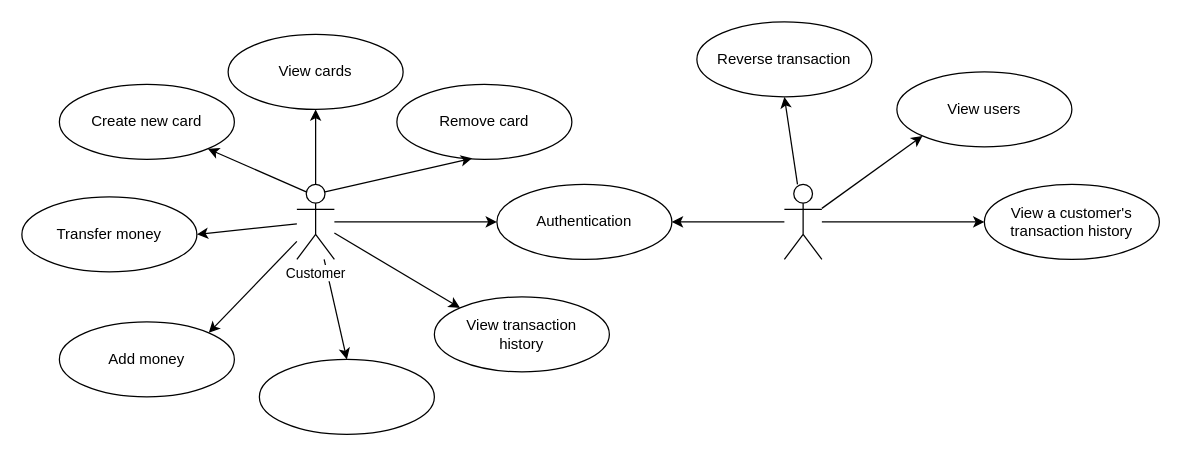
This 1181x456 diagram has some shape labels left out. Here are the shapes that lost their labels. From the top down, the centre of each, then its label:
At (802,221): "Administrator".
At (346,396): "Check balance".
